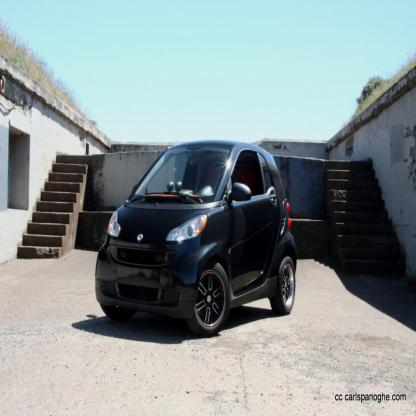Car: (95, 138, 297, 338)
